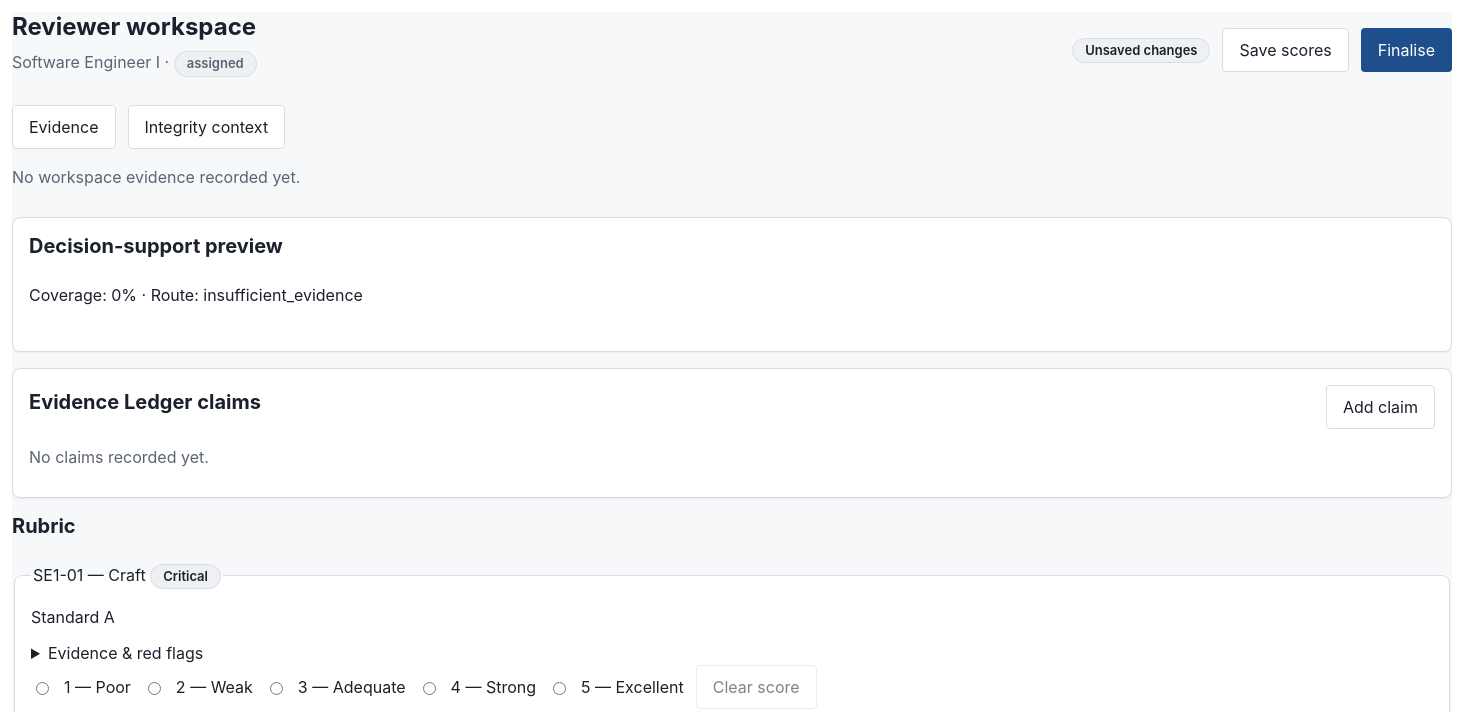
Test: ReviewWorkspacePage › surfaces a 409 finalised-state error via Alert when saving scores
The image size is (1464, 712).
Expected: the text "SE1-01" is shown, [33, 564, 83, 584]
Click the button "Save scores".
click(1286, 50)  # box [1222, 28, 1349, 72]
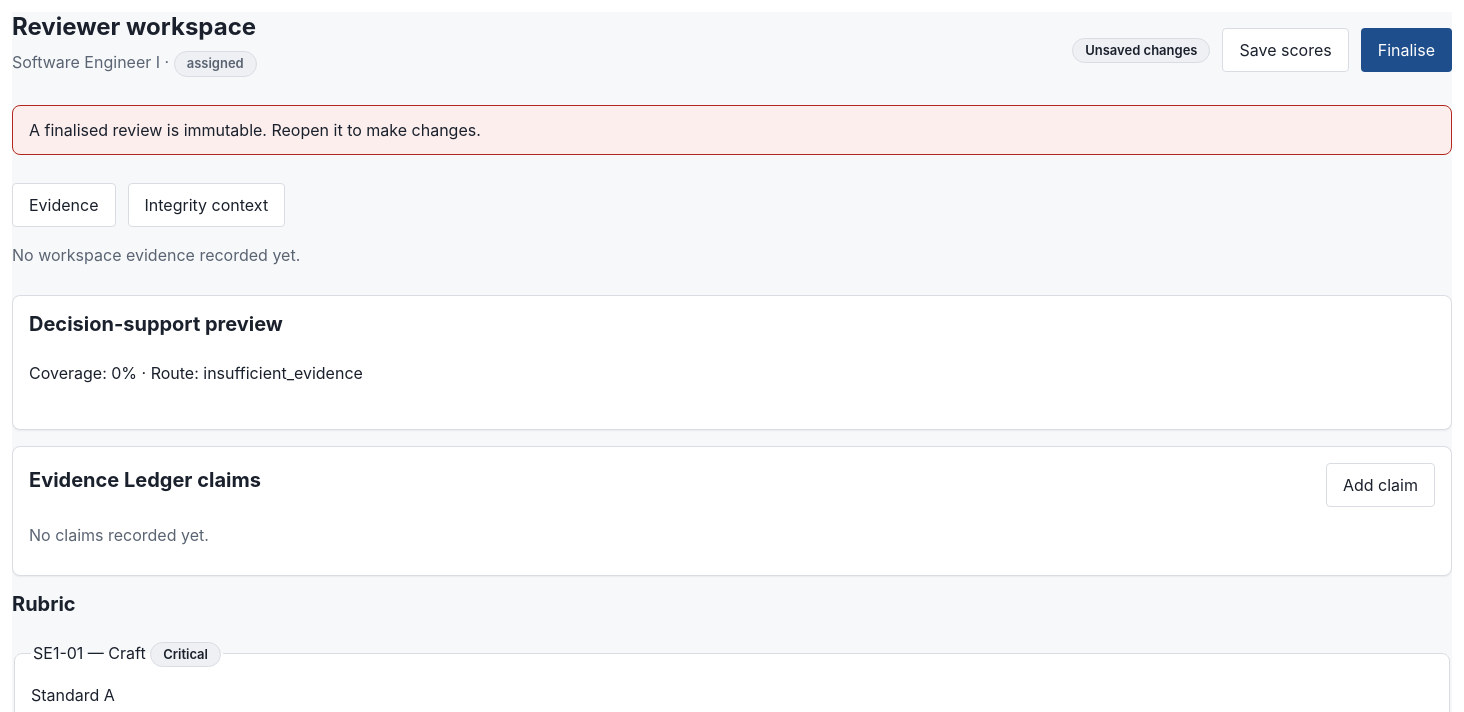
Now the text "A finalised review is immutable. Reopen it to make changes." is shown, box [12, 104, 1452, 154]
